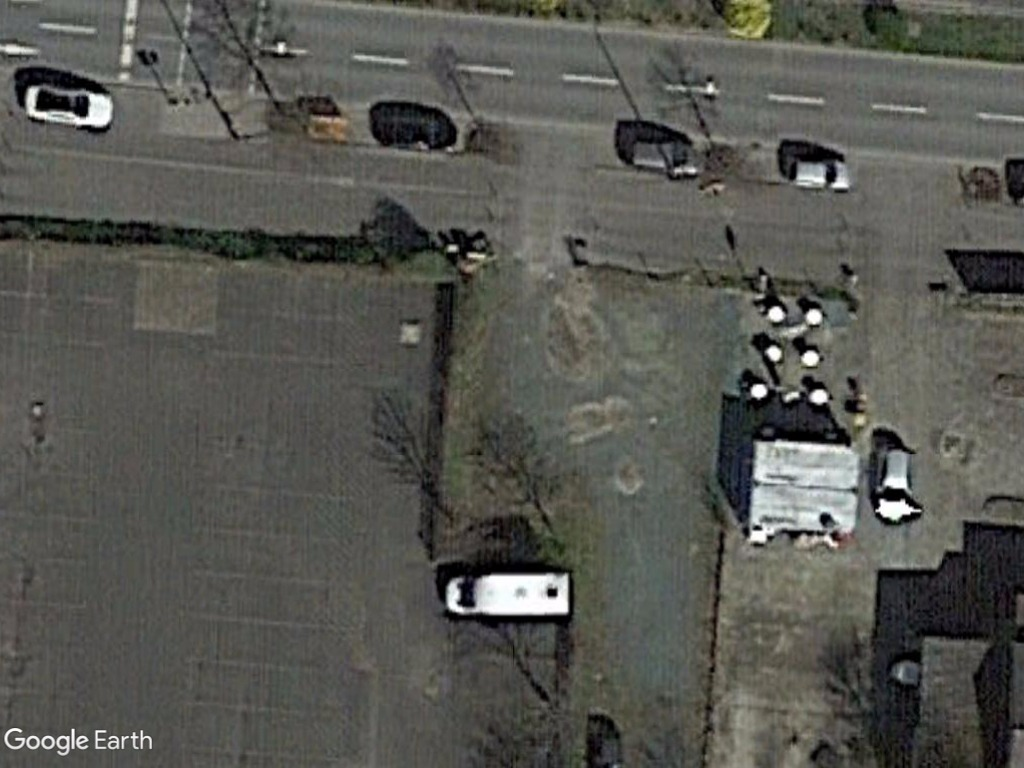car: (781, 150, 857, 195)
van: (434, 569, 576, 626)
